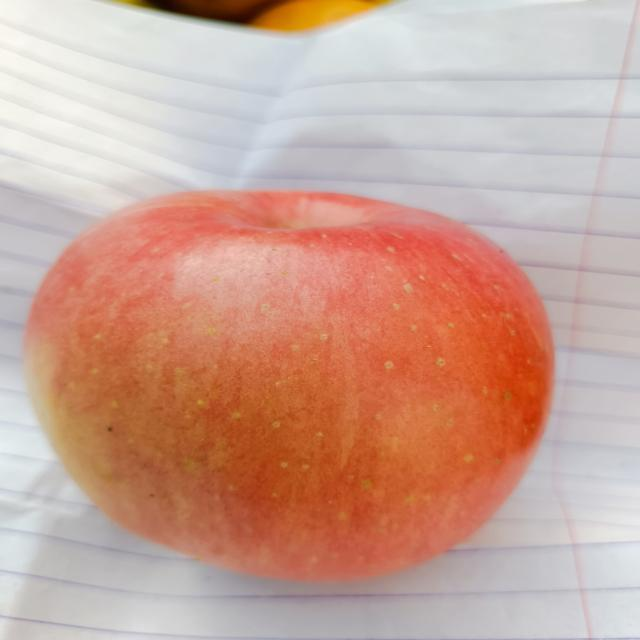Fresh Apple: (40, 186, 562, 592)
